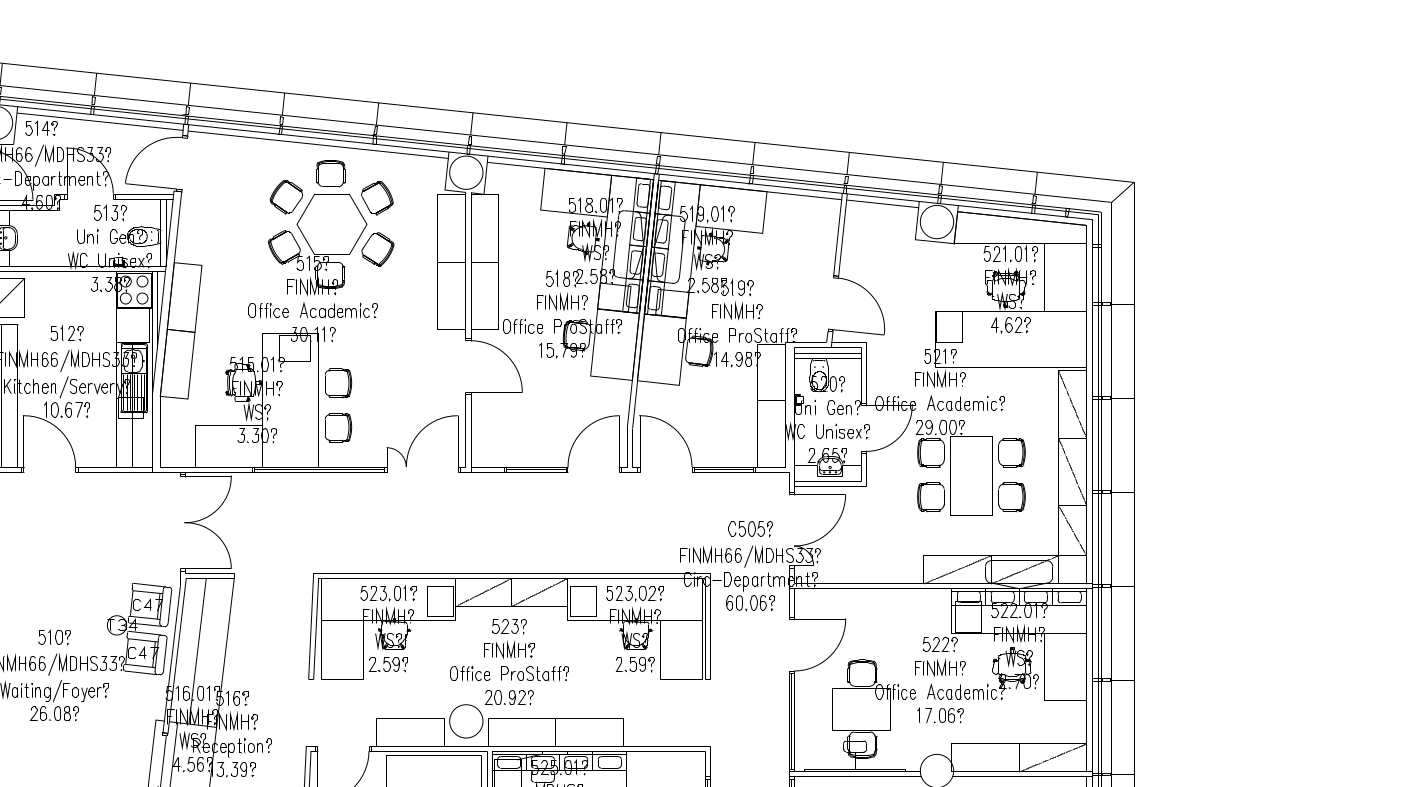door: (171, 471, 254, 573), (382, 403, 467, 477), (831, 272, 895, 338), (851, 391, 915, 457), (785, 489, 849, 555), (787, 613, 851, 679), (21, 408, 82, 477), (118, 129, 182, 192), (462, 334, 526, 397), (561, 410, 625, 473), (637, 411, 701, 474)
